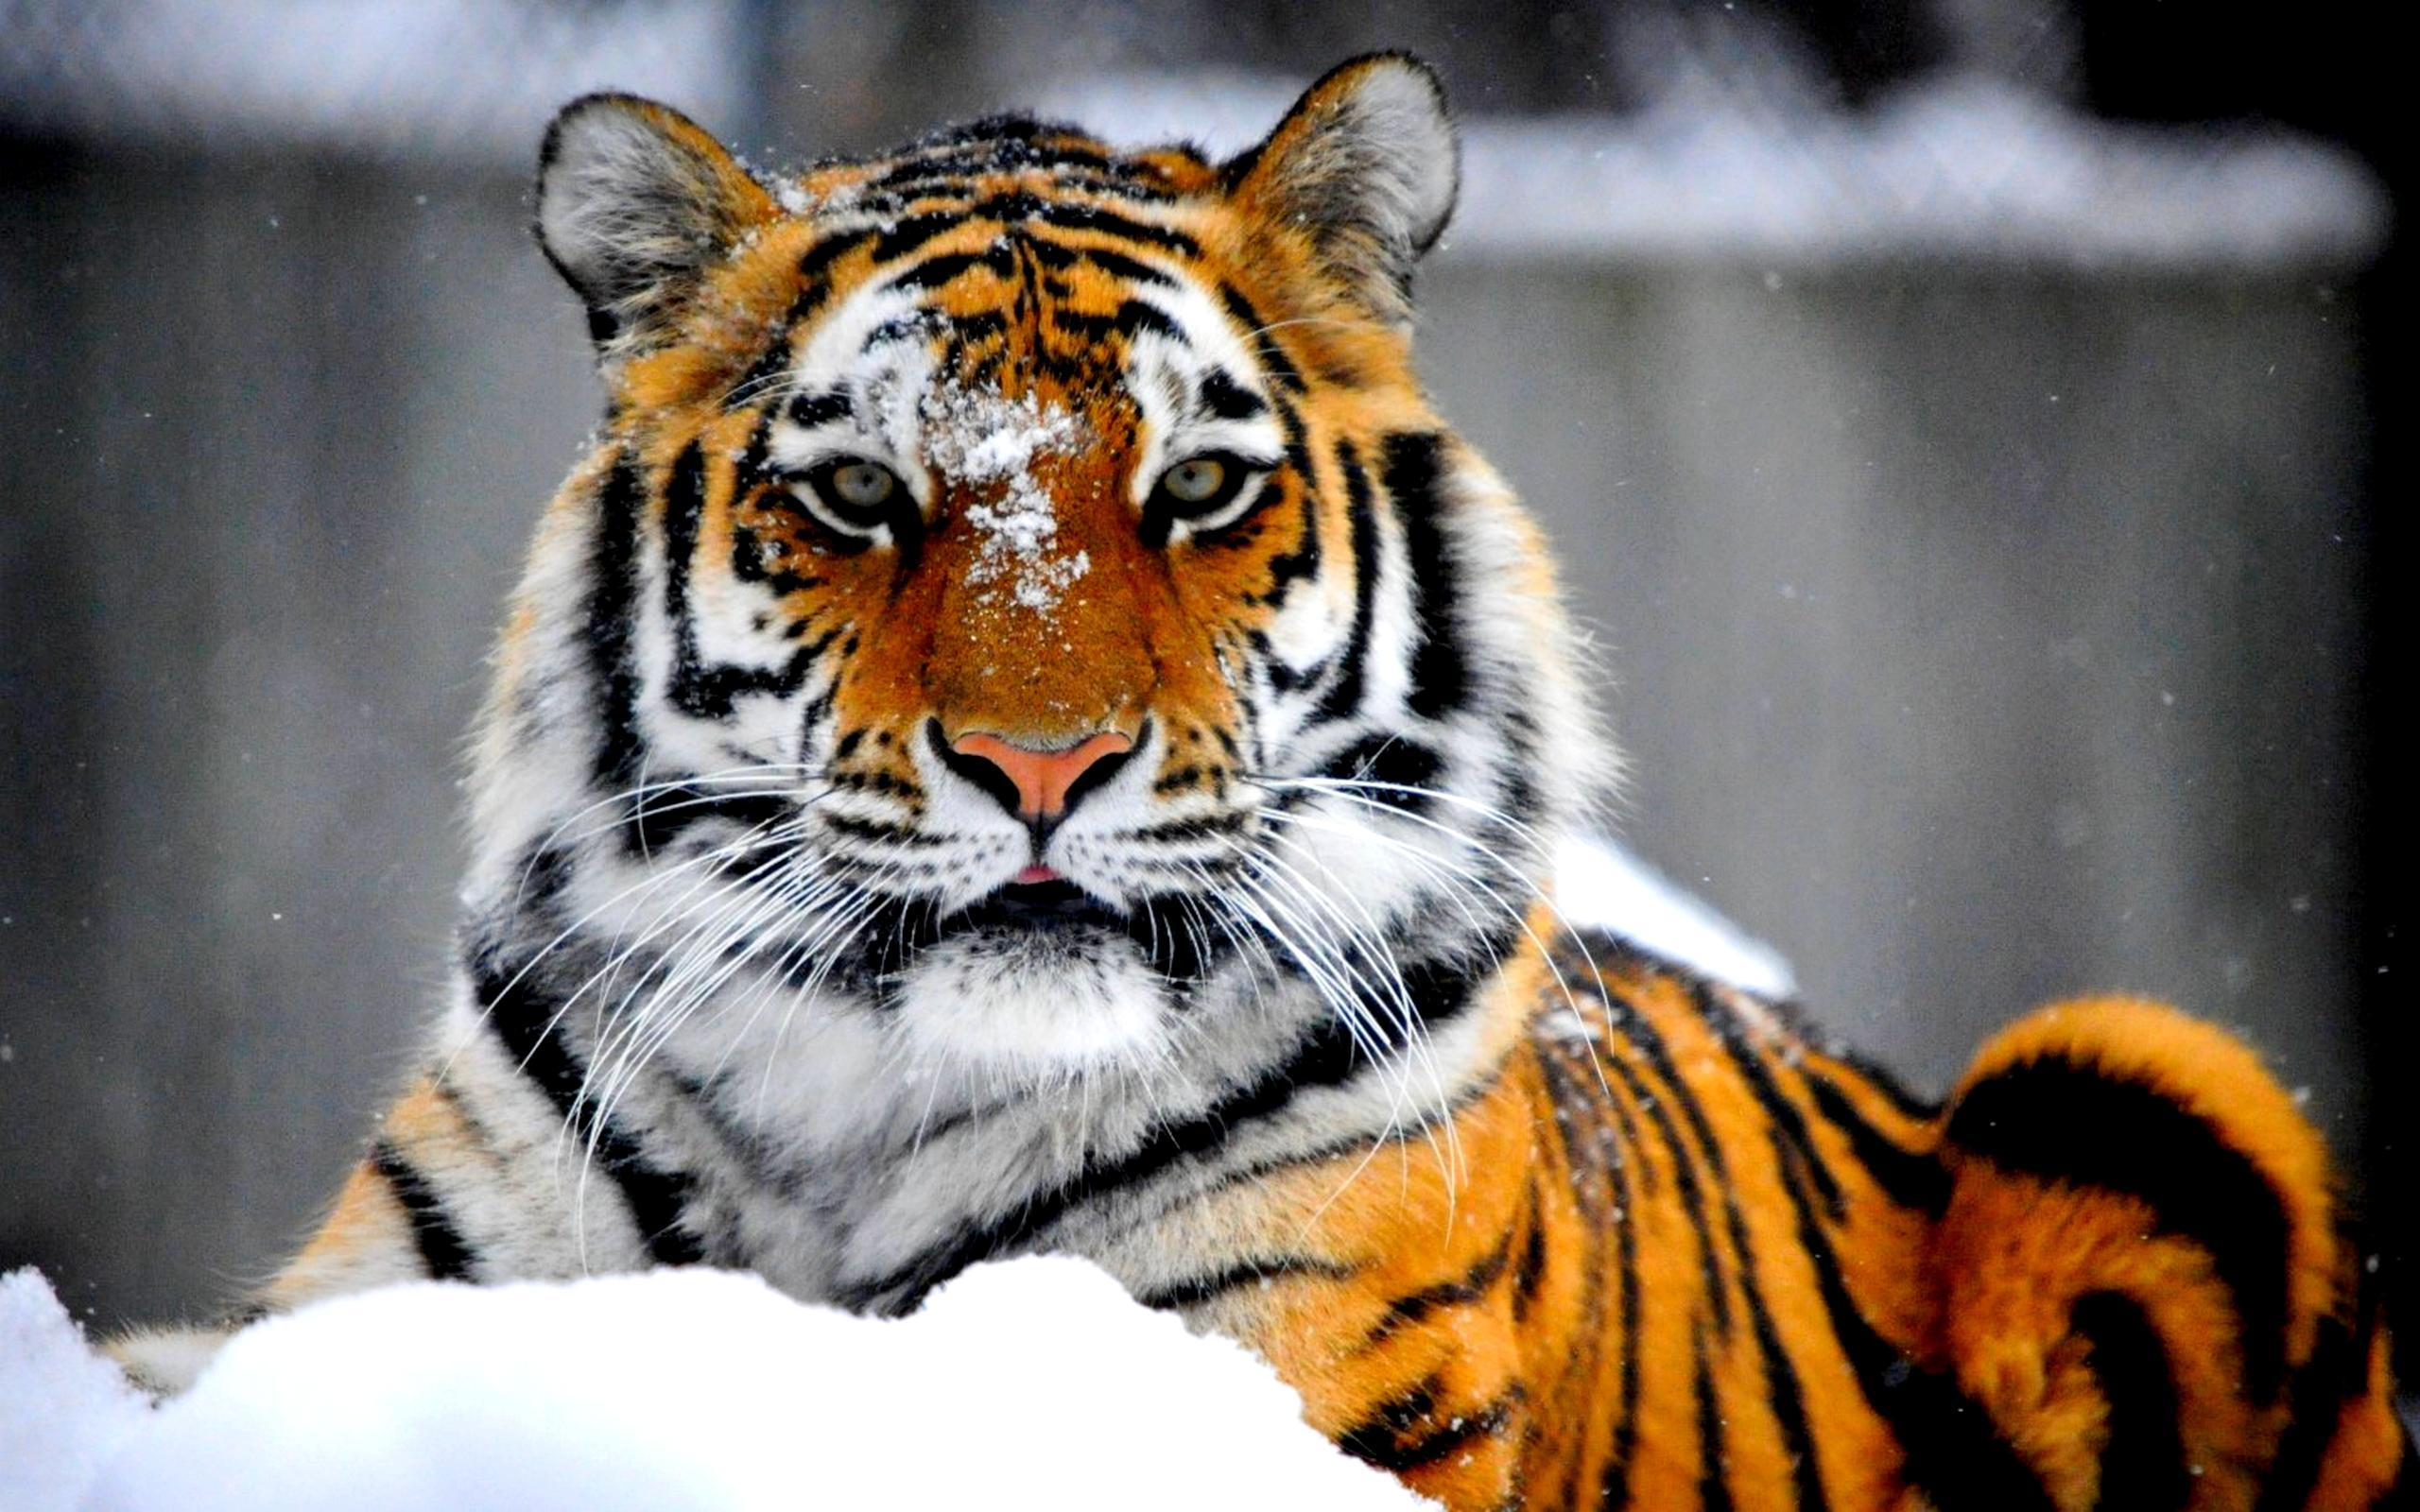Tigrew: (437, 31, 2145, 1385)
